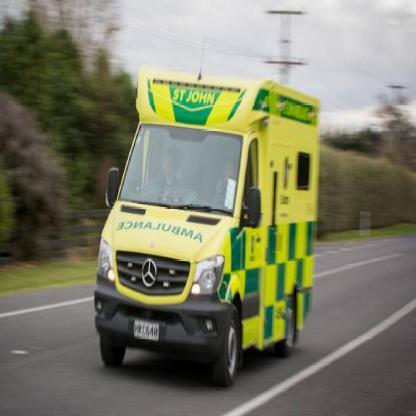Ambulance - v1 Ambulance last generate: (90, 74, 327, 384)
